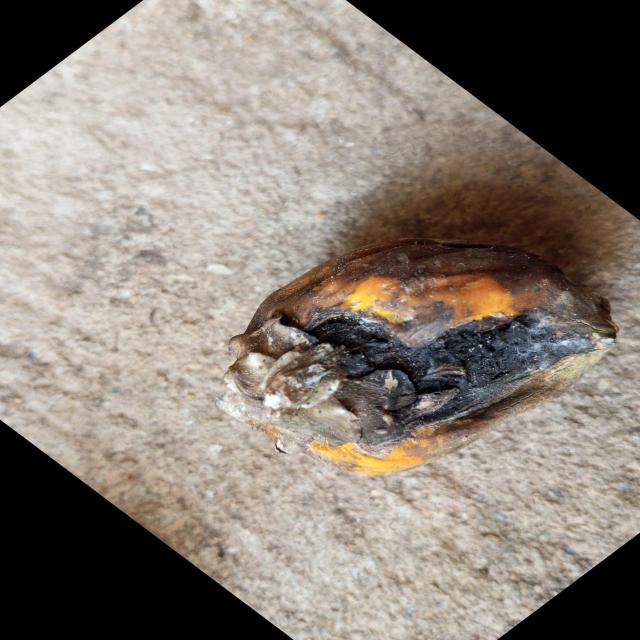damaged: (229, 241, 604, 459)
